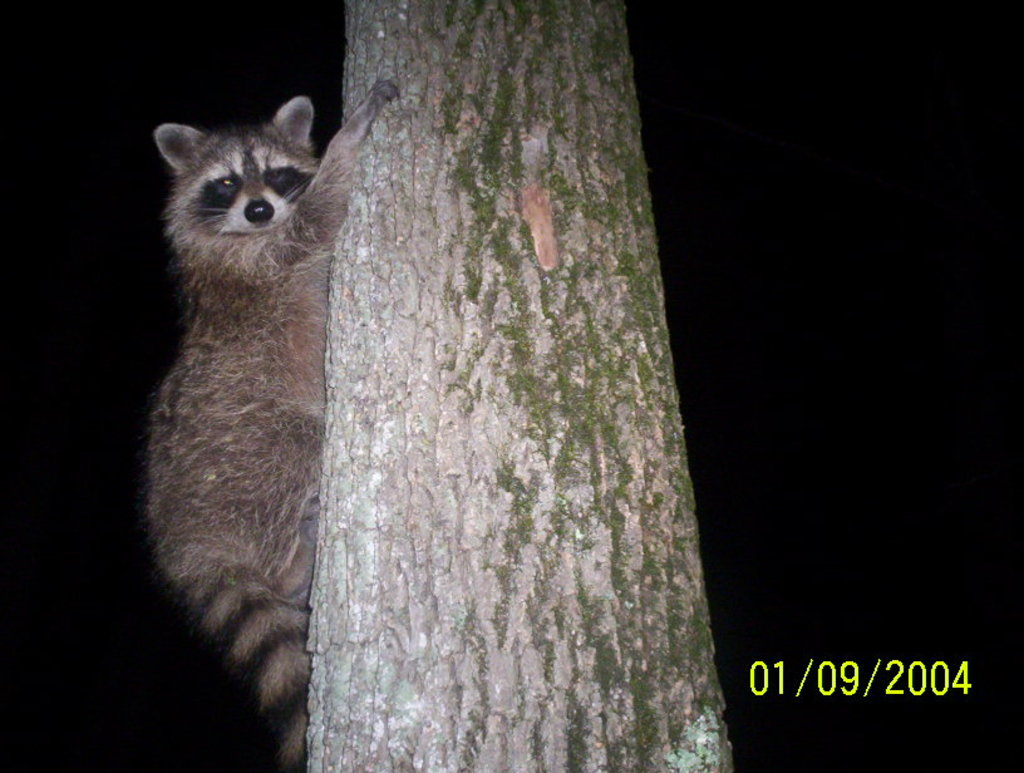raccoon: (139, 96, 334, 761)
